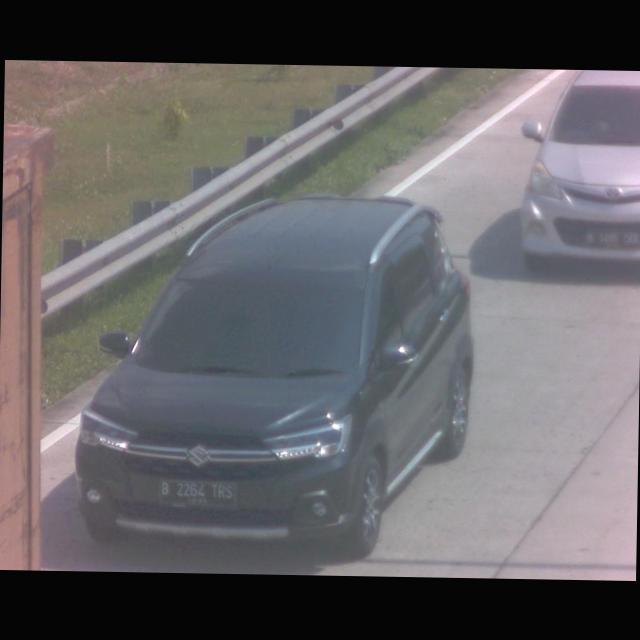plate: (158, 478, 238, 510)
